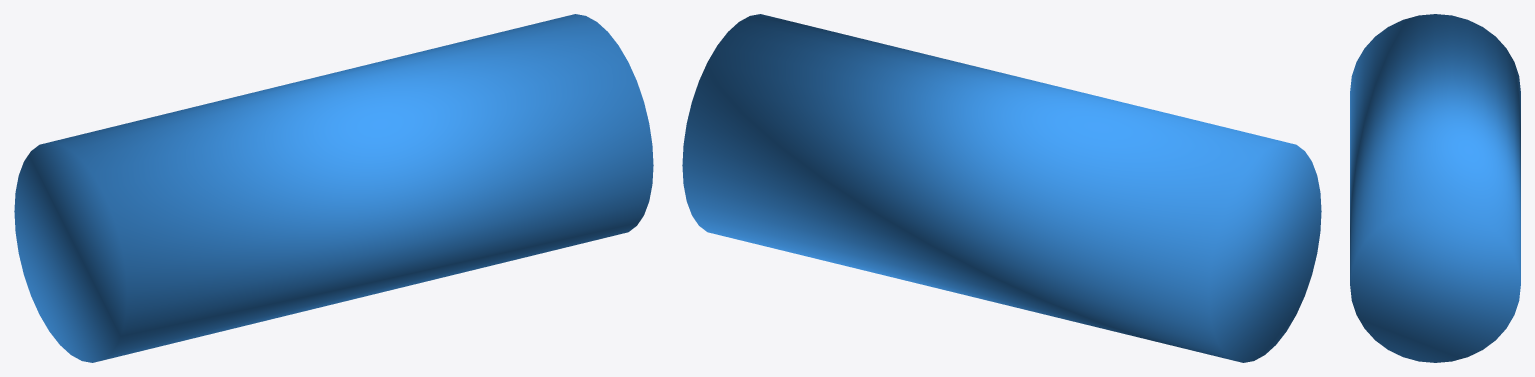
File: HATCH_Strut_Bar_Turnbuckle_Center.glb
3 views of the same model, side by side, from view 1: azimuth 30°, elevation 25°; view 2: azimuth 150°, elevation 25°; view 3: azimuth 270°, elevation 25° (orthographic). The views are drawn at different scales.
Visible parts, largest first — view 1: HATCH_Strut_Bar_Turnbuckle_Center; view 2: HATCH_Strut_Bar_Turnbuckle_Center; view 3: HATCH_Strut_Bar_Turnbuckle_Center.
Part boxes in pixels (left/top/right/bottom): HATCH_Strut_Bar_Turnbuckle_Center: left=14, top=14, right=653, bottom=362; HATCH_Strut_Bar_Turnbuckle_Center: left=682, top=14, right=1321, bottom=362; HATCH_Strut_Bar_Turnbuckle_Center: left=1350, top=14, right=1520, bottom=362.
Size of the model in its own units: 0.14 by 0.052 by 0.052.
